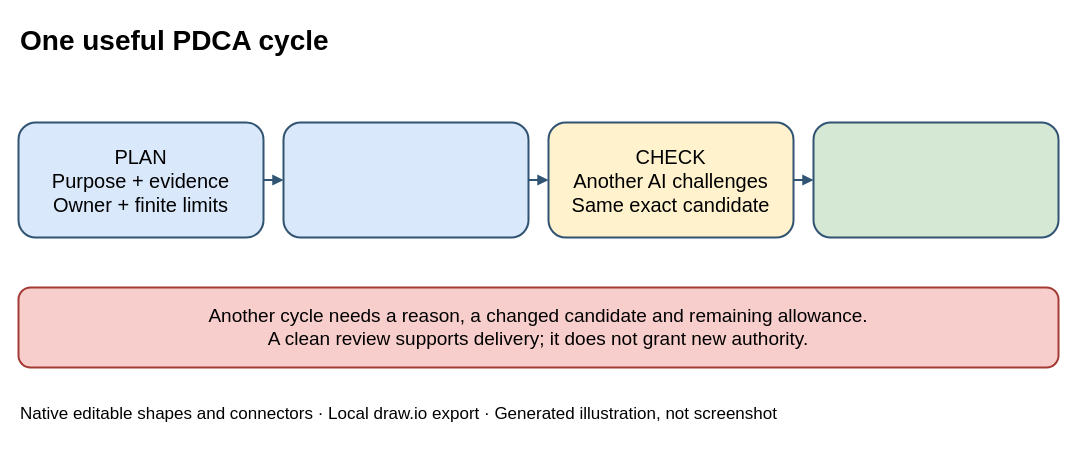
This 1076x464 diagram has some shape labels left out. The shapes that lost their labels are listed below. From the top down, each one's centre as x and y in pixels, then its label:
At point (405, 179): "DO Create one candidate Preserve its sources".
At point (935, 179): "ACT Correct and recheck, finish or stop".
